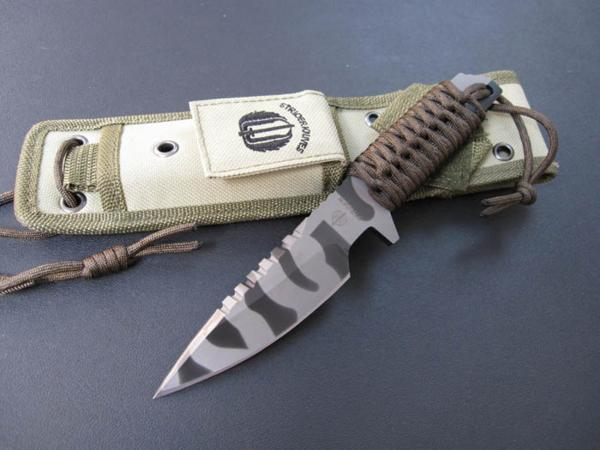knife: (107, 74, 549, 404)
